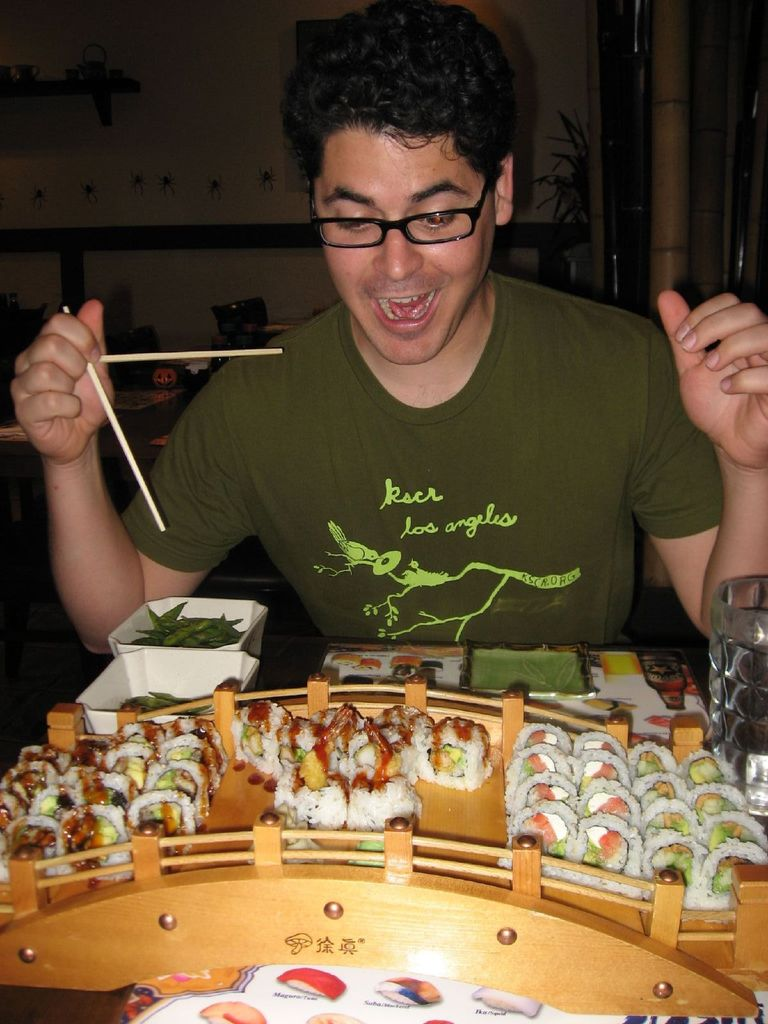sushi: (496, 724, 767, 906), (0, 720, 227, 888), (237, 699, 486, 829), (422, 719, 492, 780)
